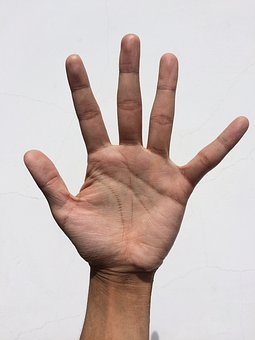palm: (77, 147, 194, 265)
